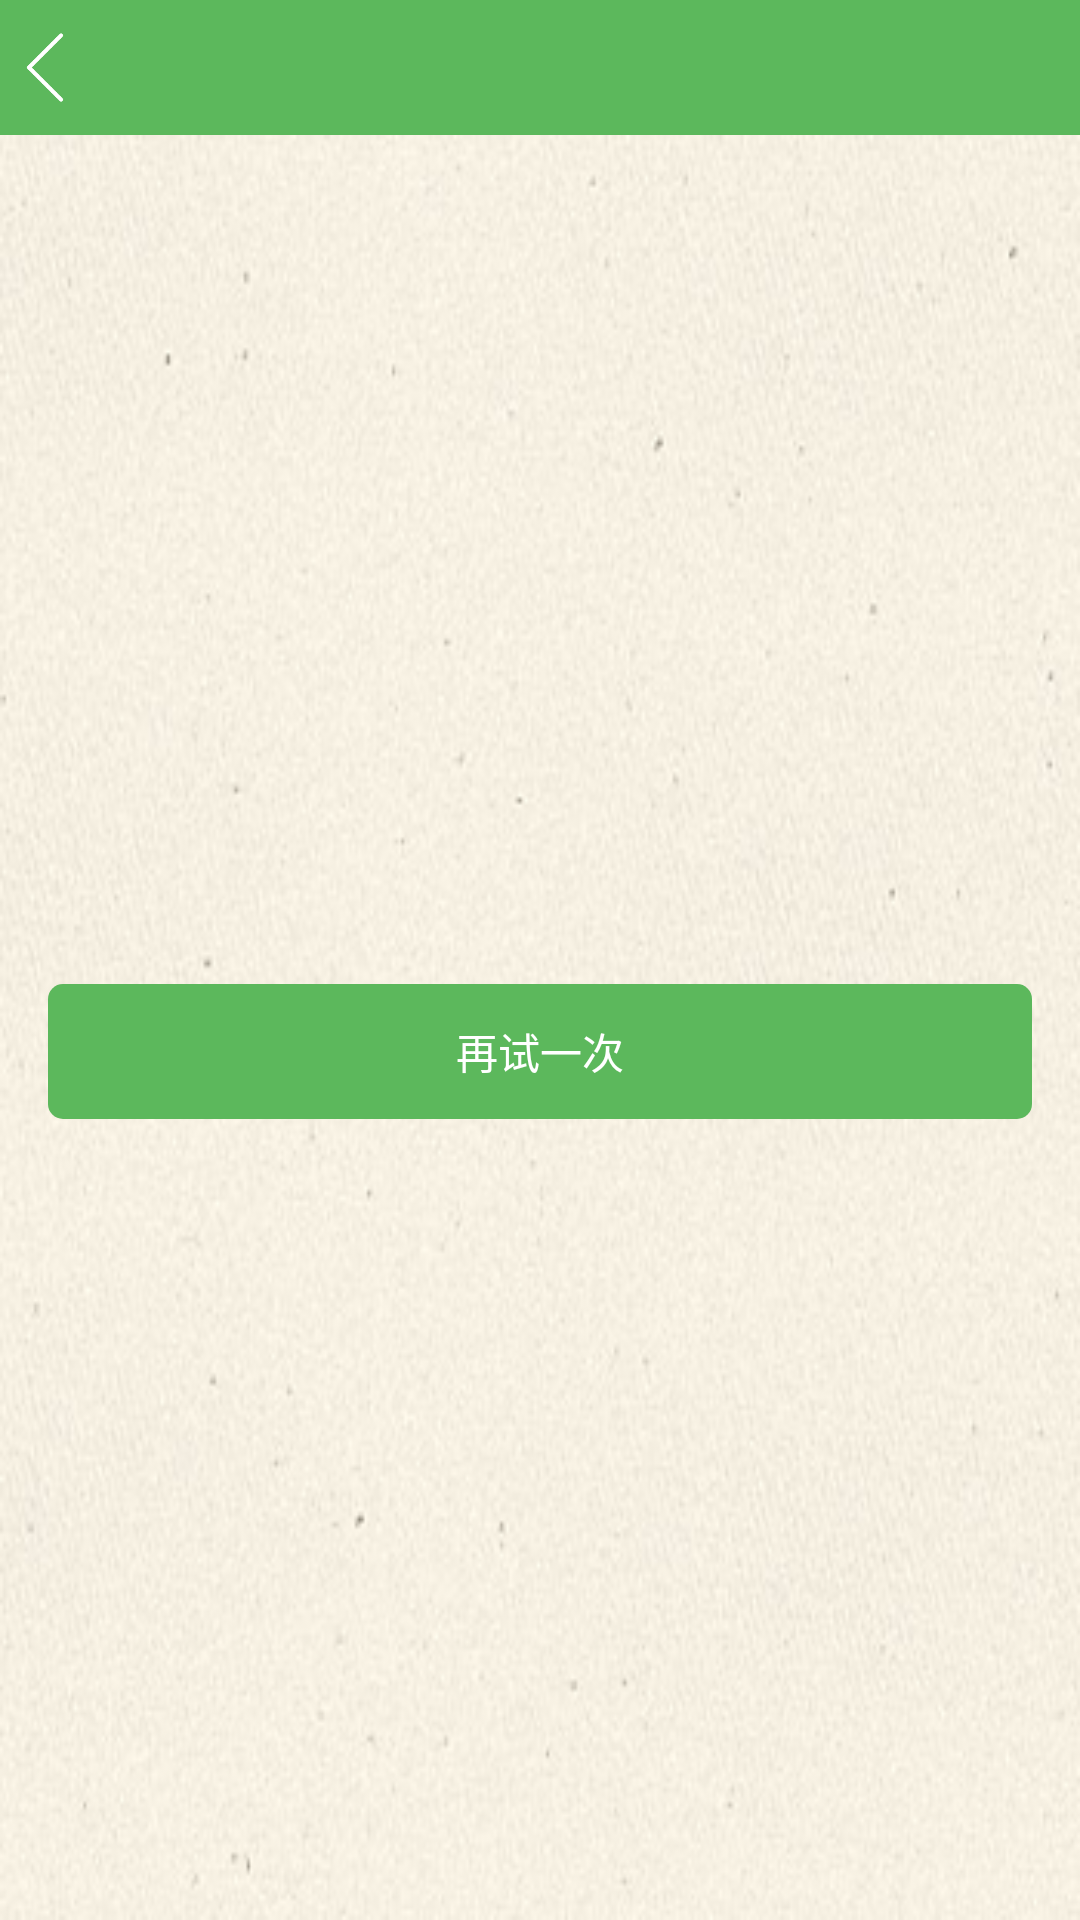

Where icons sit on this 1080*1920 app screen, as BBox(x1, y1, x2, y2):
back: BBox(27, 33, 63, 102)
